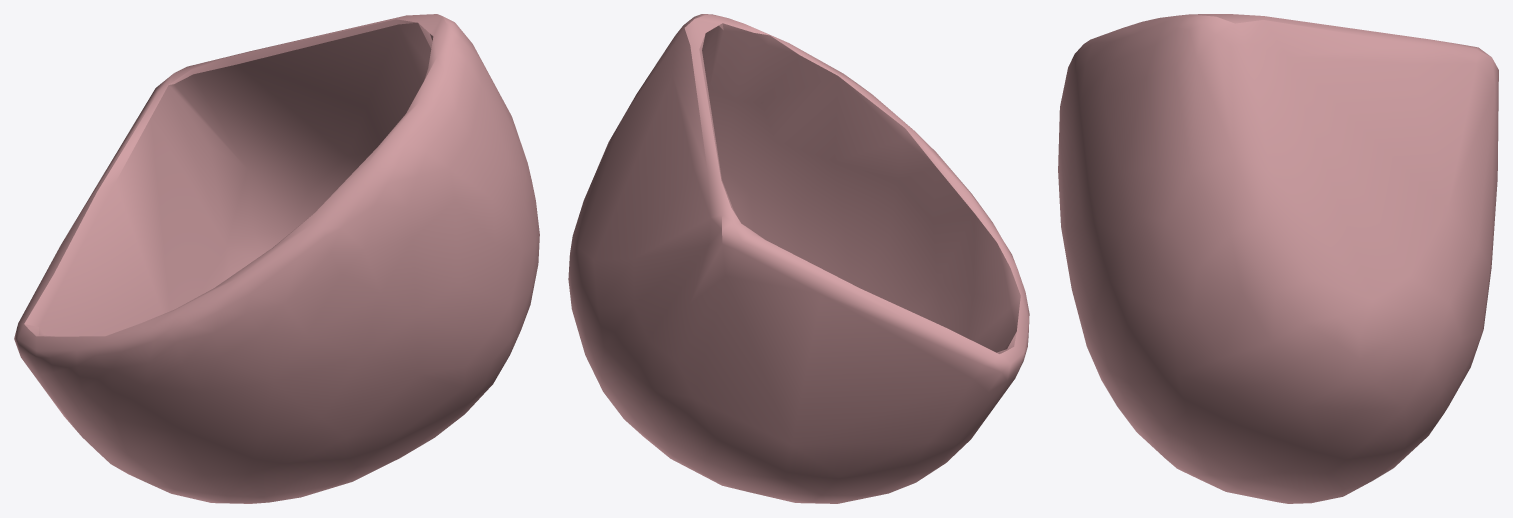
Rendered from fma7253_fj2435.glb.
3 views of the same model, side by side, from view 1: azimuth 30°, elevation 25°; view 2: azimuth 150°, elevation 25°; view 3: azimuth 270°, elevation 25° (orthographic). The views are drawn at different scales.
Parts seen in each view (by area): view 1: FMA7253_FJ2435; view 2: FMA7253_FJ2435; view 3: FMA7253_FJ2435.
Boxes of the visible parts, x1,y1,x2,y2 form: FMA7253_FJ2435: [14, 14, 539, 503]; FMA7253_FJ2435: [568, 14, 1029, 503]; FMA7253_FJ2435: [1058, 14, 1498, 503].
Size of the model in its own units: 0.0197 by 0.018 by 0.0135.
